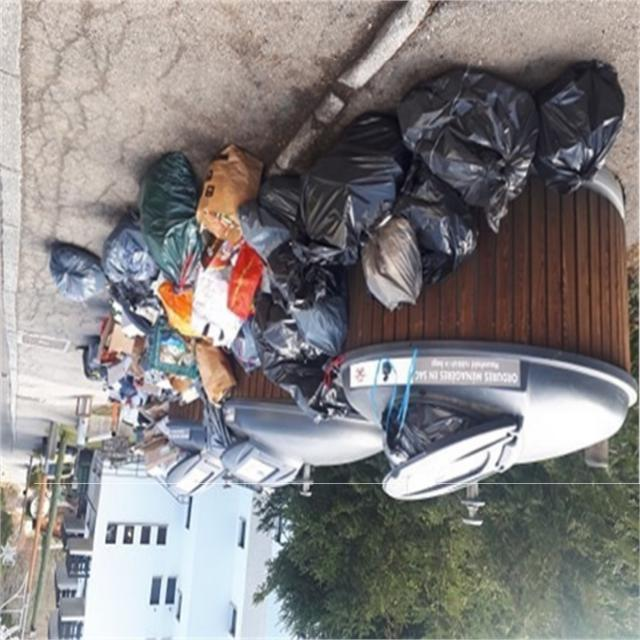Trashbag: (406, 80, 536, 190), (306, 117, 400, 246), (276, 240, 351, 358), (550, 68, 624, 180), (146, 162, 204, 287), (240, 172, 311, 258), (409, 180, 477, 262), (266, 355, 338, 426), (229, 301, 288, 380), (104, 202, 154, 288), (48, 247, 109, 302)
